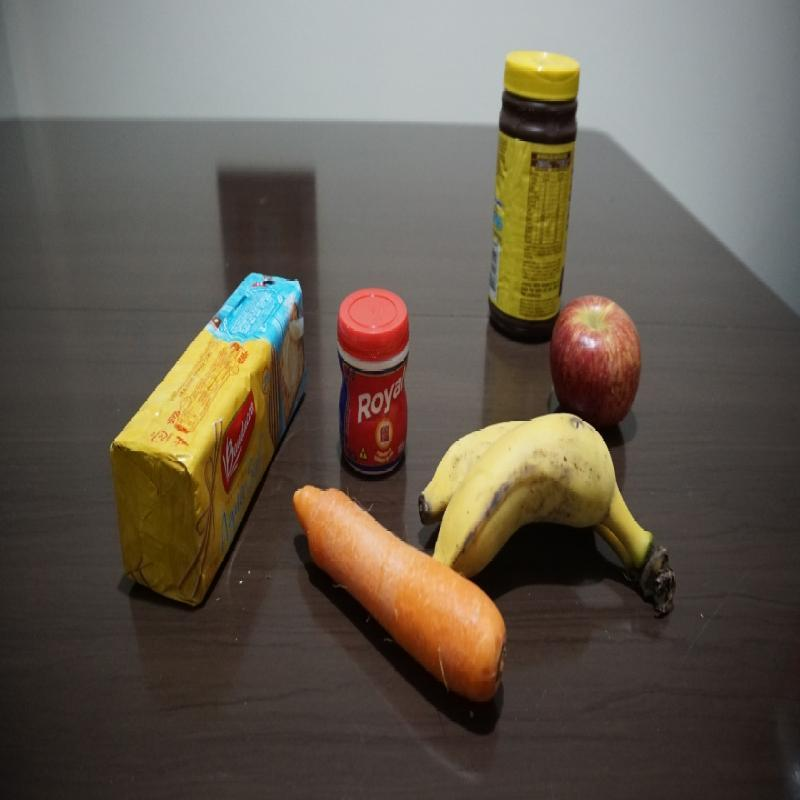Apple: (552, 294, 647, 408)
Banana: (427, 414, 685, 580)
Carrot: (300, 474, 419, 645)
Chocolate Powder: (489, 46, 579, 265)
Cracker: (110, 264, 301, 605)
Yeast: (336, 286, 411, 474)
